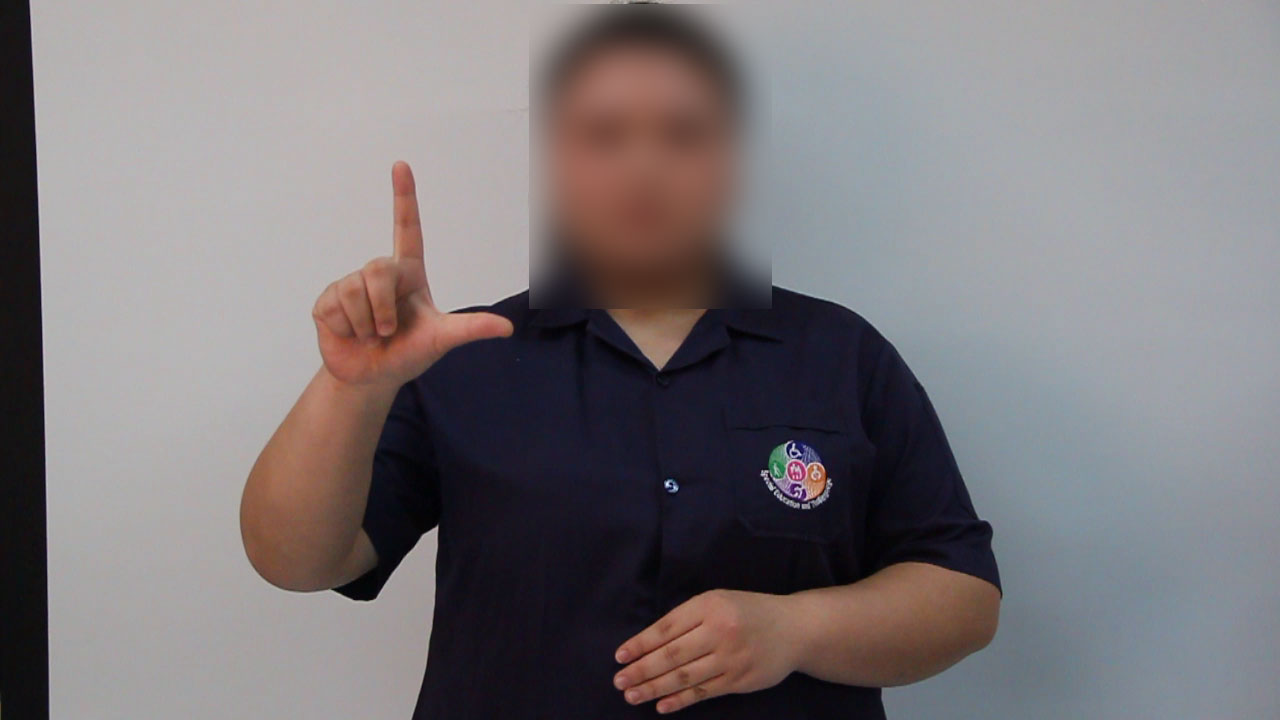lor: (299, 147, 521, 416)
